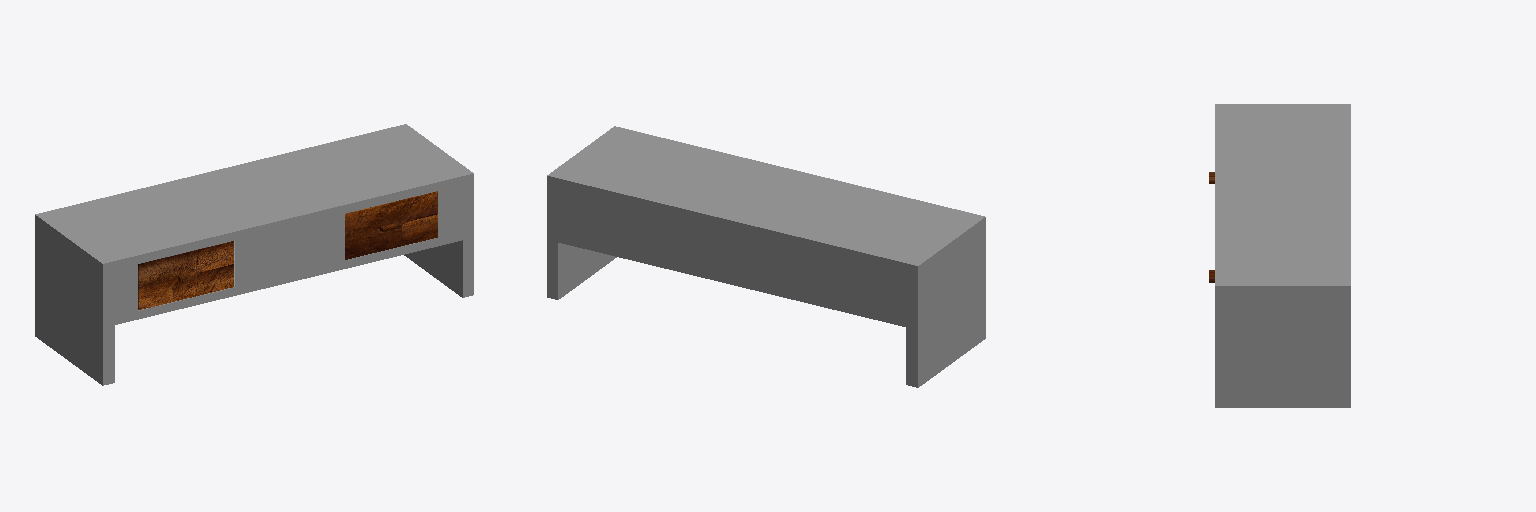
3 renders of one model, left to right at view 1: azimuth 30°, elevation 25°; view 2: azimuth 150°, elevation 25°; view 3: azimuth 270°, elevation 25°, orthographic.
Visible parts, largest first — view 1: Cube.006_Cube.026, Cube.016_Cube.027; view 2: Cube.006_Cube.026; view 3: Cube.006_Cube.026.
Boxes of the visible parts, box(x1,y1,x2,y2) form: Cube.006_Cube.026: box(35, 124, 473, 385); Cube.016_Cube.027: box(138, 191, 437, 309); Cube.006_Cube.026: box(547, 126, 985, 387); Cube.006_Cube.026: box(1215, 104, 1350, 407).
Bounding box in the file's own units: 3.79 × 1.19 × 1.25.
3 materials, 1 textured.